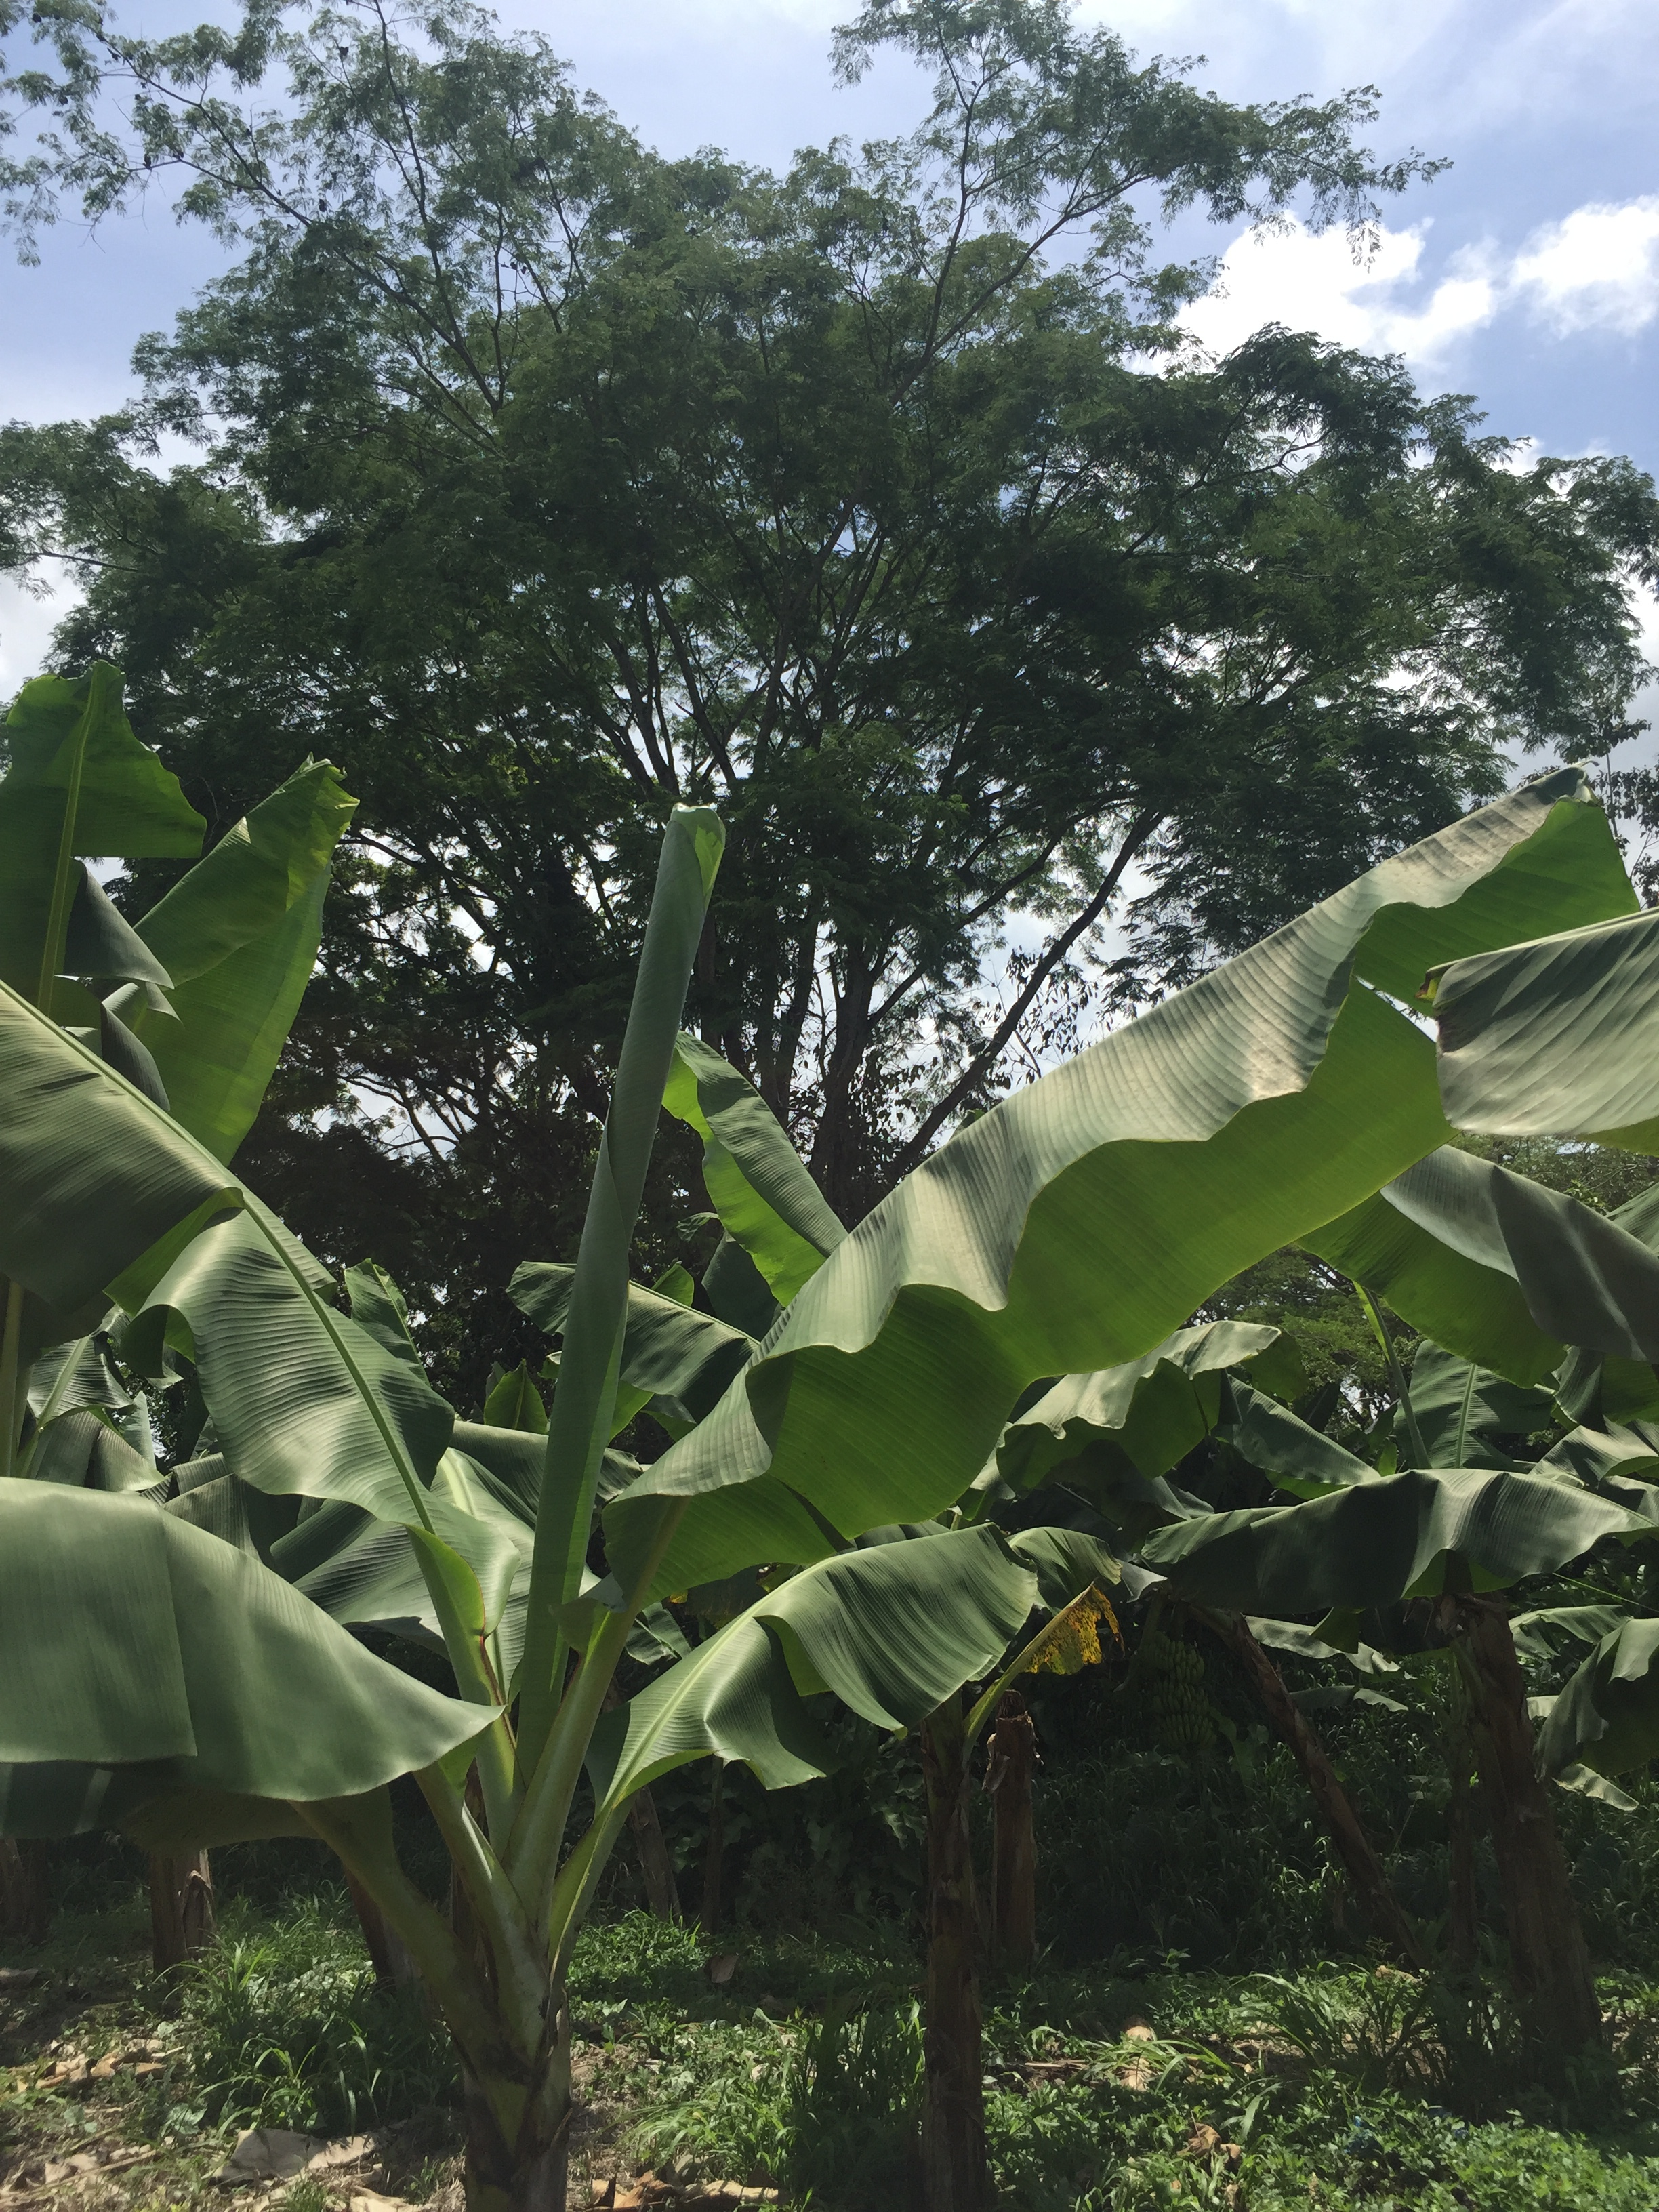candleleafs: (514, 801, 728, 1763)
